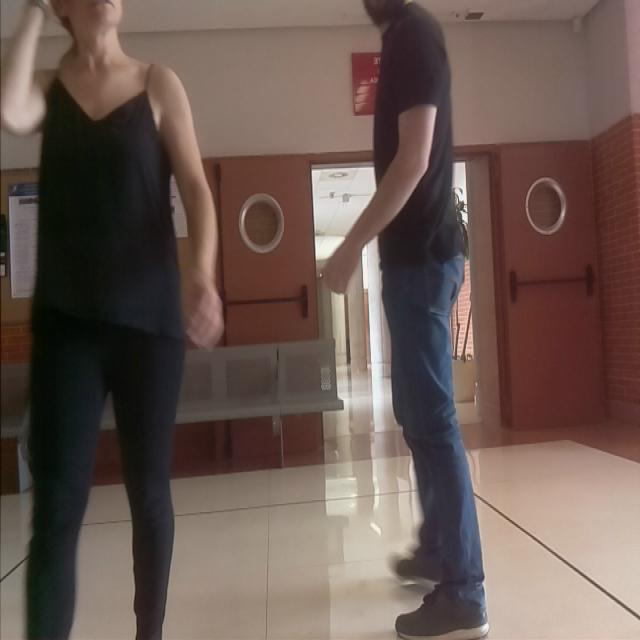person: (0, 0, 227, 640), (317, 0, 489, 640)
